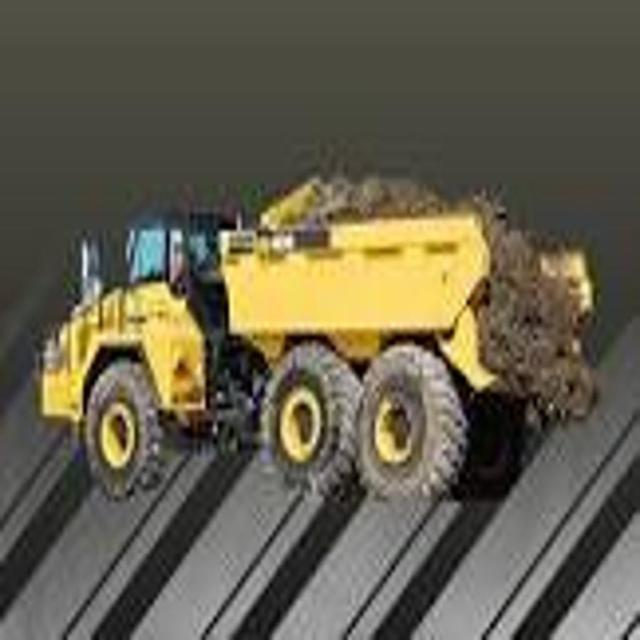dump_truck: (39, 157, 602, 510)
